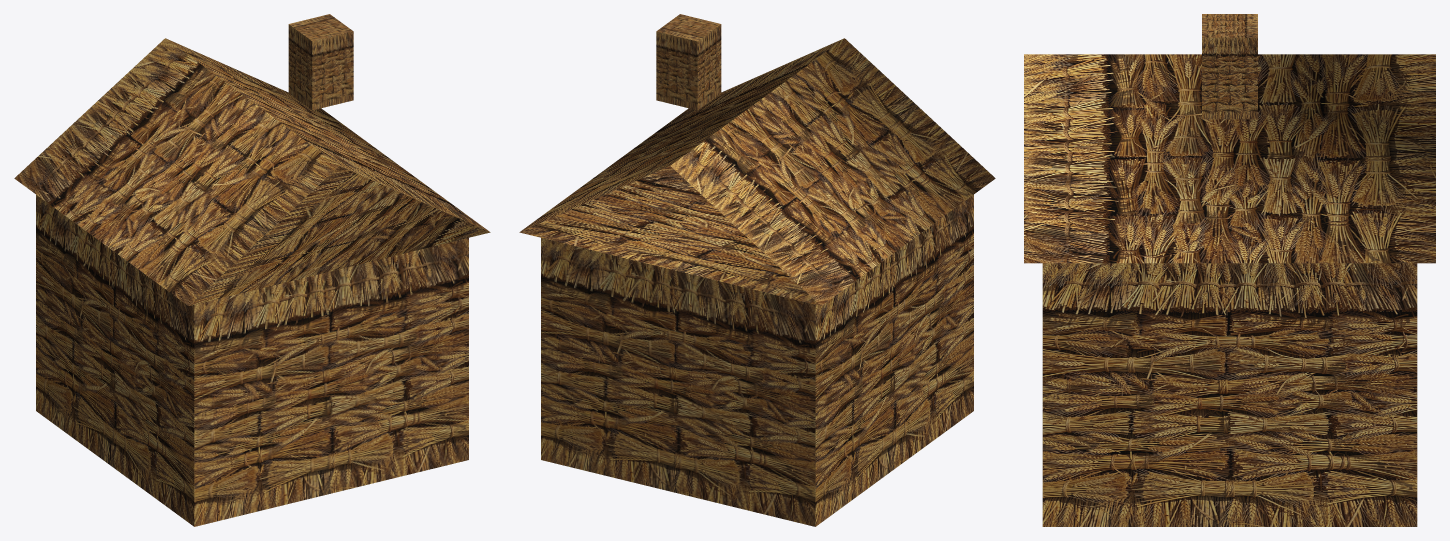
File: mill.obj
3 views of the same model, side by side, from view 1: azimuth 30°, elevation 25°; view 2: azimuth 150°, elevation 25°; view 3: azimuth 270°, elevation 25° (orthographic). The views are drawn at different scales.
Parts seen in each view (by area): view 1: building; view 2: building; view 3: building.
Boxes of the visible parts, bbox=[...] form: building: bbox=[14, 14, 490, 526]; building: bbox=[519, 14, 995, 526]; building: bbox=[1024, 14, 1435, 526].
Size of the model in its own units: 2.75 by 3.4 by 2.75.
